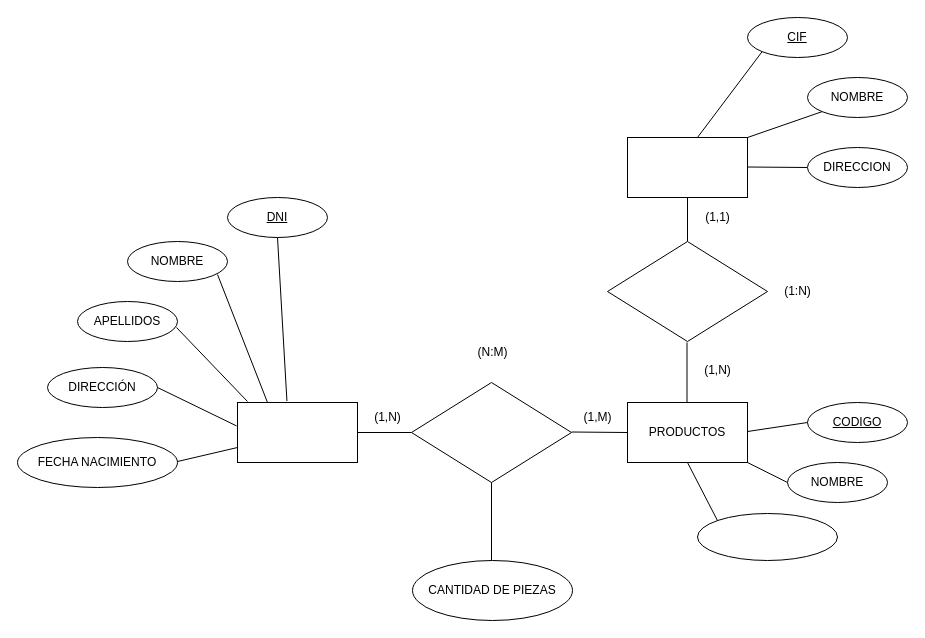
Some shapes in this 925 by 638 pixel diagram are drawn without their labels. Each missing label, with the centre of its shape:
"CLIENTE" belongs at pixel 297 432.
"COMPRA" belongs at pixel 491 432.
"PRECIO UNITARIO" belongs at pixel 767 536.
"PROVEEDOR" belongs at pixel 687 167.
"VENDE" belongs at pixel 687 291.
